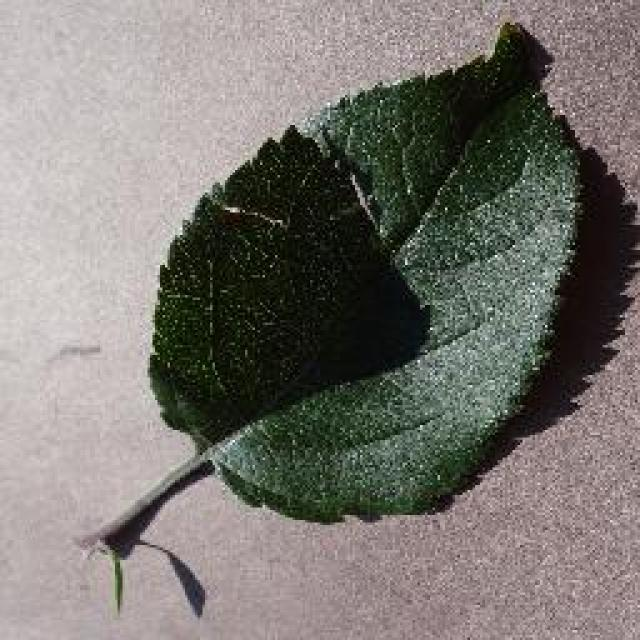App_healthy: (172, 124, 586, 496)
